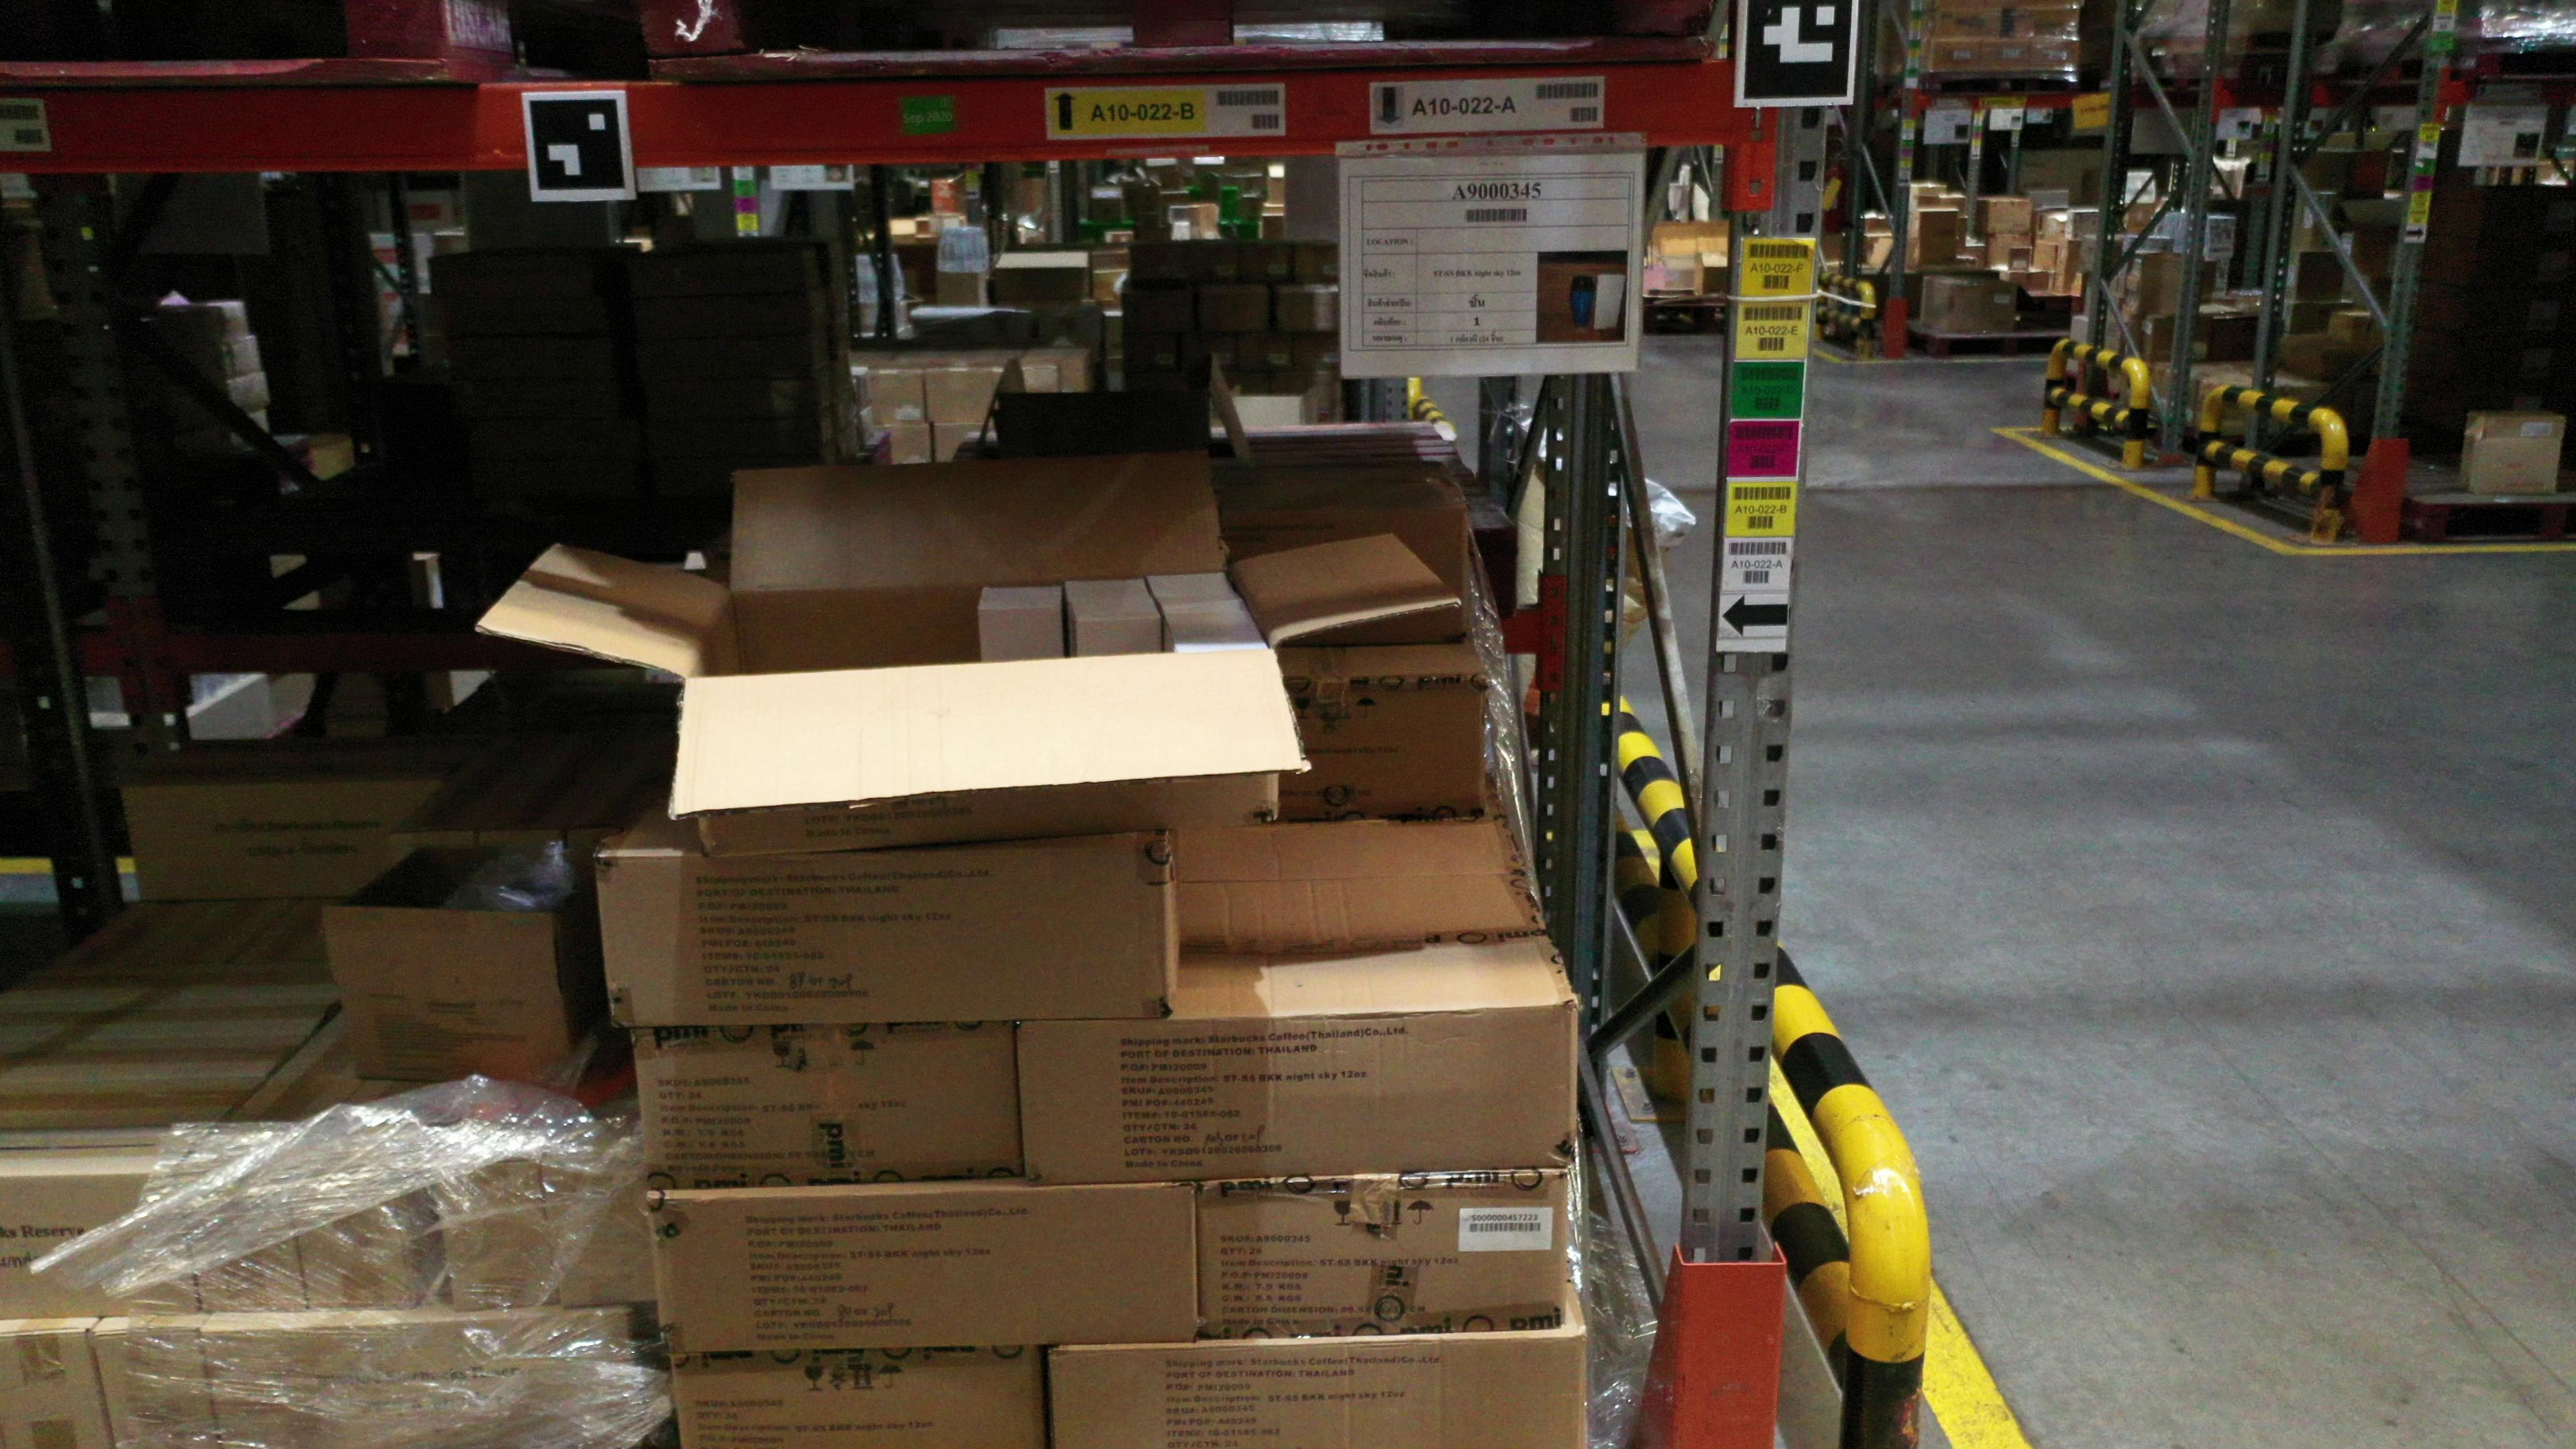-: (669, 642, 1313, 853), (589, 833, 1169, 1037), (1016, 1003, 1578, 1184), (649, 1185, 1198, 1359), (632, 1023, 1023, 1189), (203, 1306, 639, 1449), (1047, 1334, 1589, 1449), (1200, 1173, 1566, 1341), (327, 911, 571, 1090), (667, 1348, 1047, 1449), (430, 1152, 660, 1315), (1223, 506, 1472, 646), (1283, 676, 1491, 832), (0, 1175, 198, 1320), (170, 1171, 306, 1316), (285, 1168, 418, 1315), (92, 1330, 221, 1449), (0, 1329, 113, 1449)
box: (119, 782, 435, 904)
